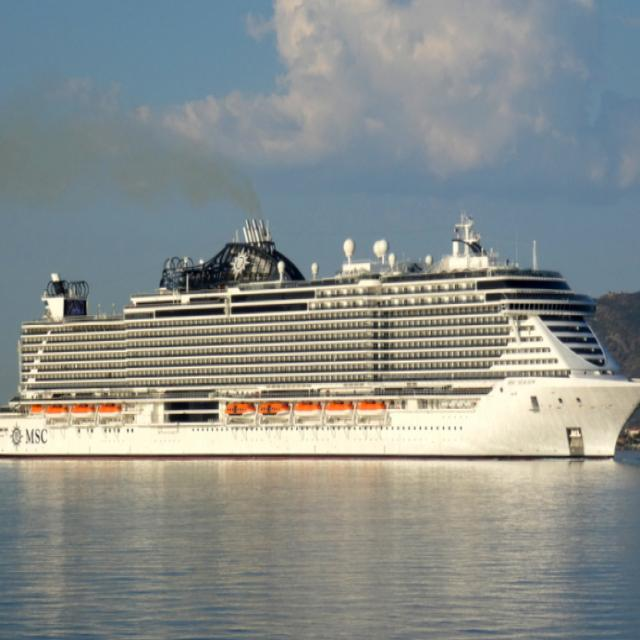cruises: (1, 212, 640, 472)
